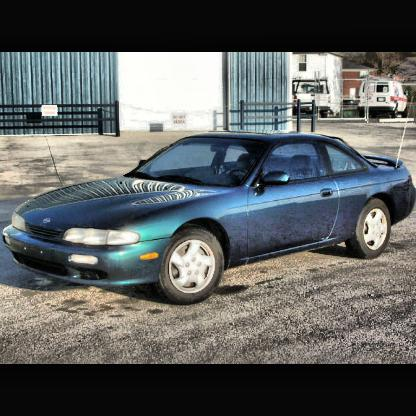Nissan 240SX Coupe 1998: (4, 130, 415, 310)
